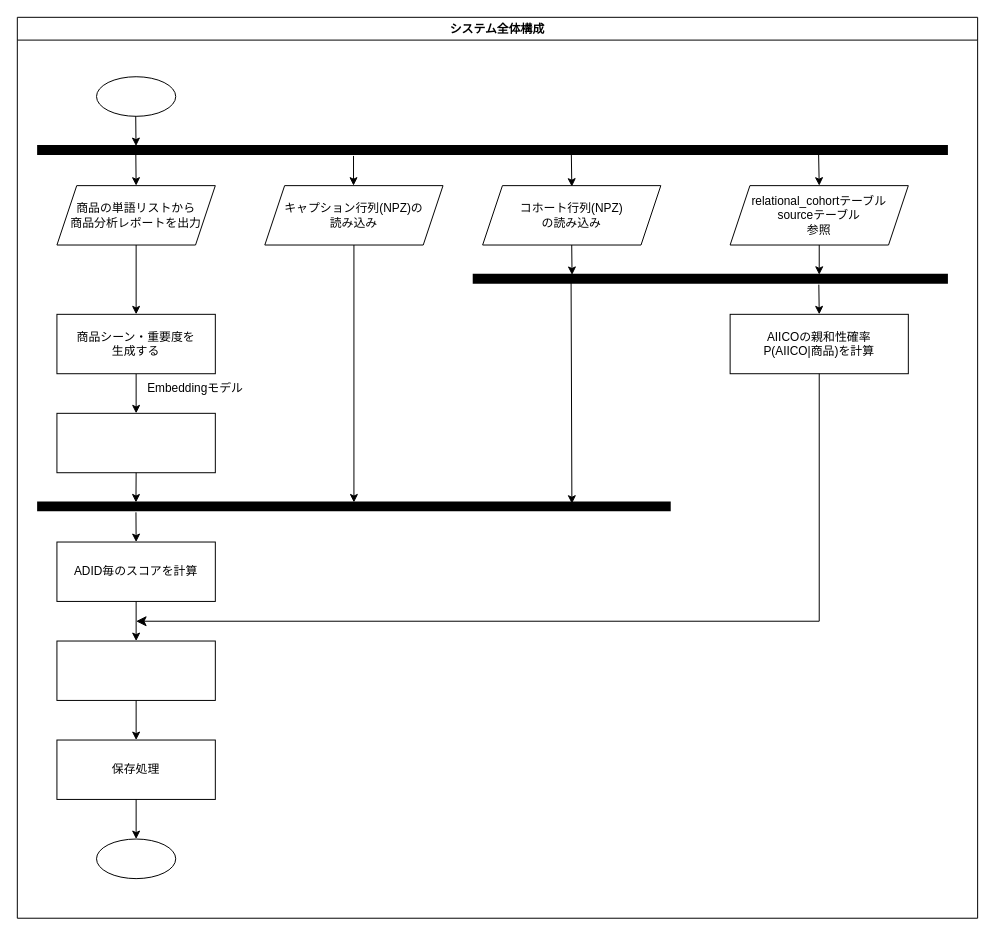
Image size: 995x936. Some labels were removed from this diagram. The centre of each missing label's shape, as x and y in pixels:
"データフレーム形式に整形" belongs at pixel 135 670.
"文脈ベクトルを 生成" belongs at pixel 135 442.
"終了" belongs at pixel 136 858.
"開始" belongs at pixel 136 96.
